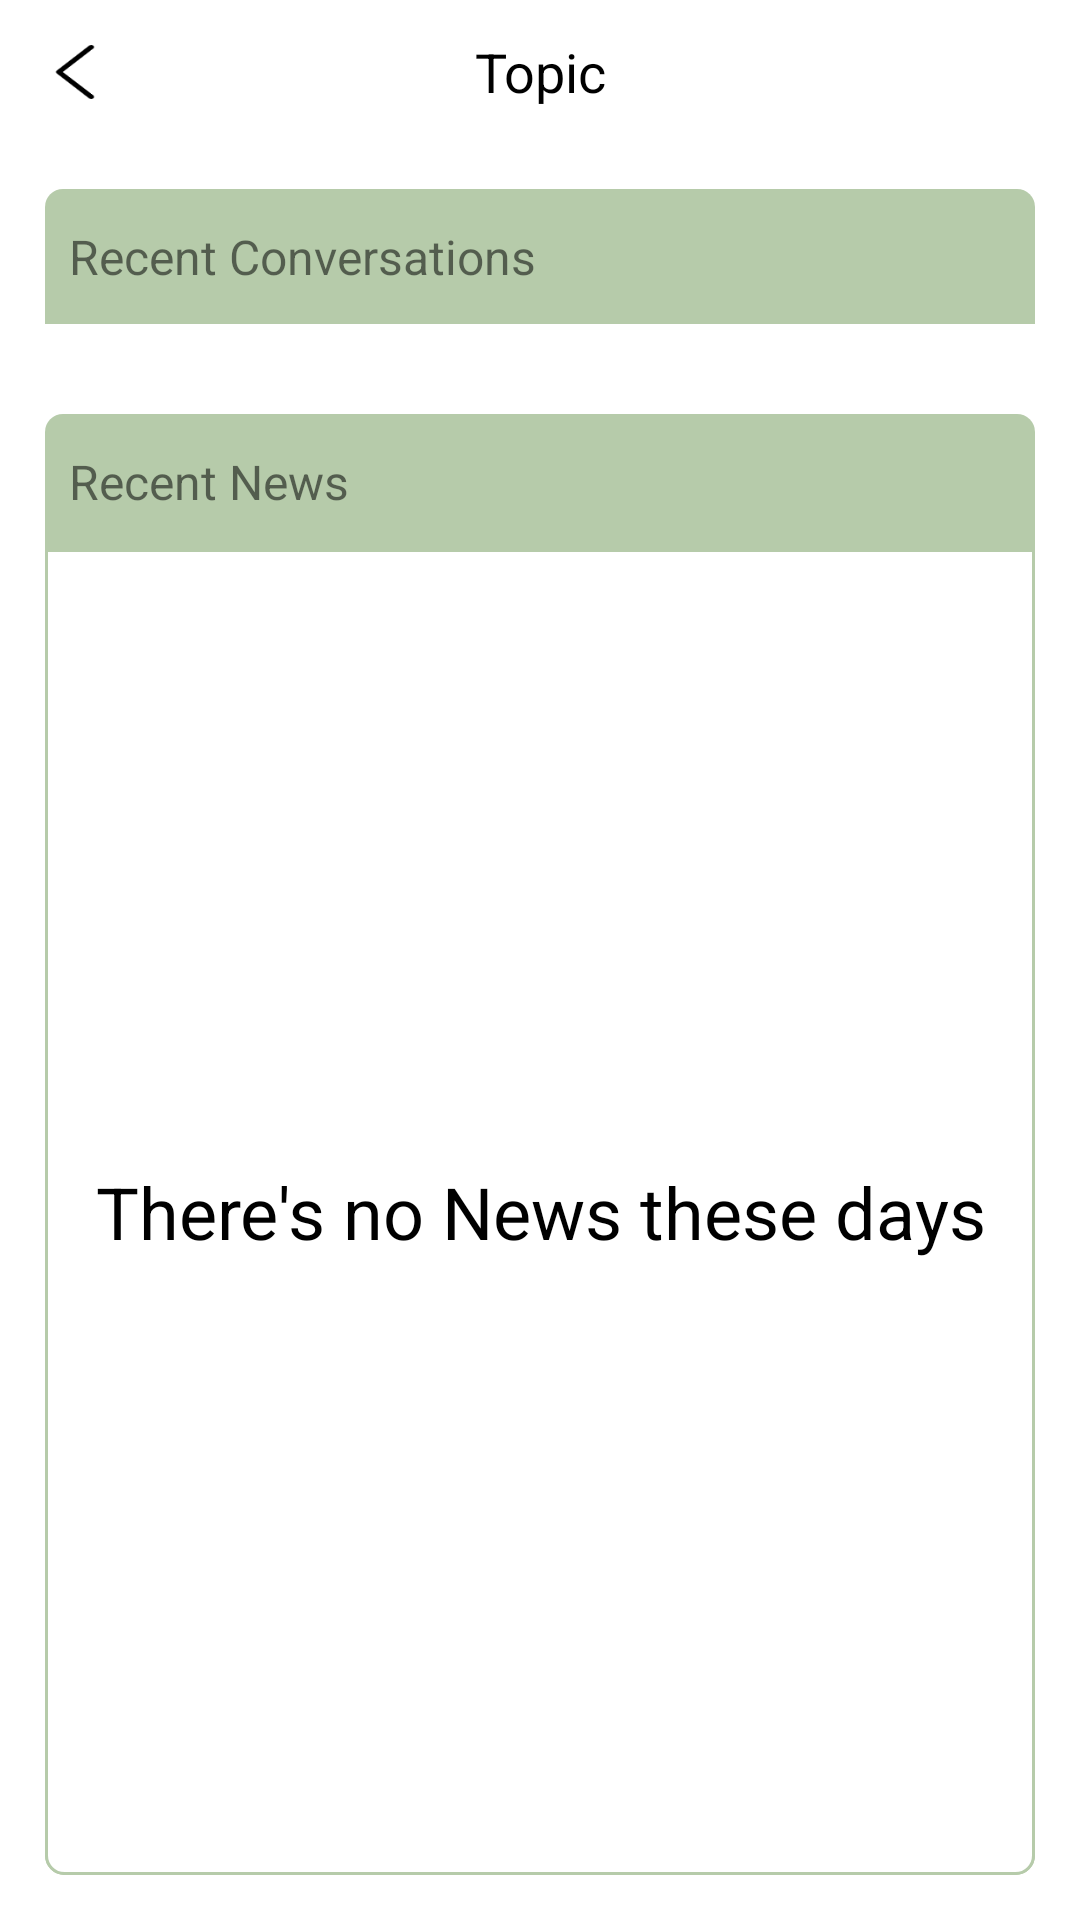

Icon click points for this 1080*1920 phone screenshot, format point (x, y):
back: point (75, 72)
